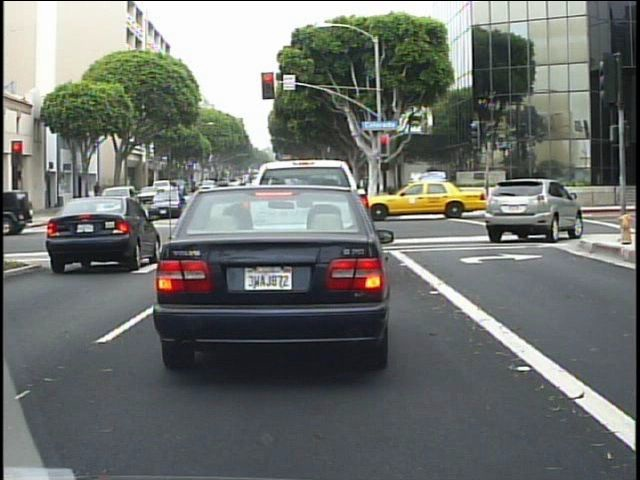person: (90, 177, 107, 211)
